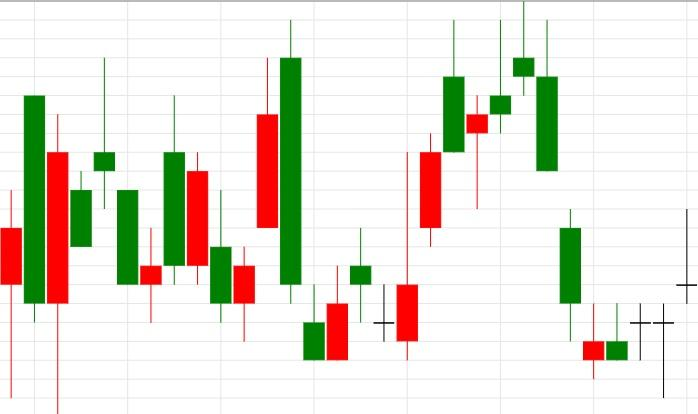bullish_engulfing_rise: (256, 19, 349, 361)
inverse_hammer_rise: (513, 0, 628, 379)
three_black_crows_fall: (396, 0, 582, 360)
